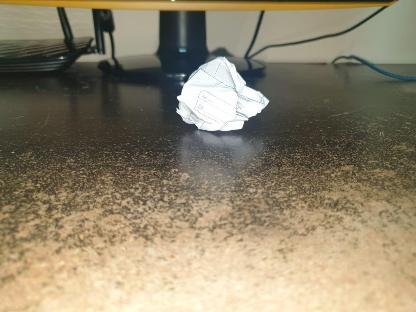Paper: (177, 56, 269, 136)
